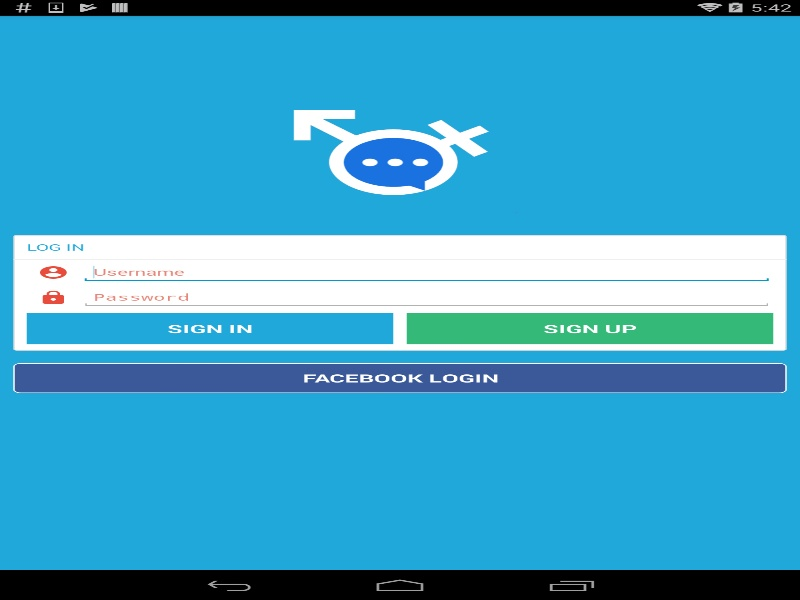Button: (13, 363, 786, 393), (26, 313, 393, 344), (406, 313, 773, 344)
Input: (80, 261, 773, 283), (80, 286, 773, 308)
